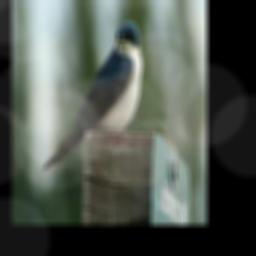Swallow: (43, 20, 142, 171)
